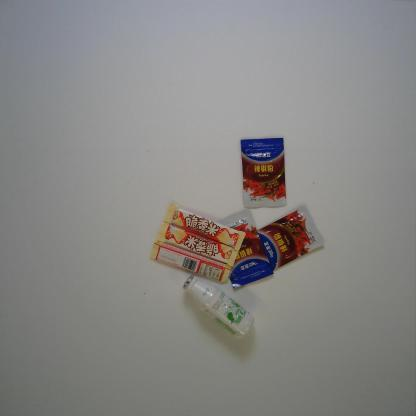Chocolate: (164, 202, 247, 251), (157, 221, 239, 267), (149, 239, 232, 284)
Milk: (182, 274, 255, 340)
Seasoner: (257, 203, 325, 272), (218, 208, 274, 289), (239, 136, 287, 209)
